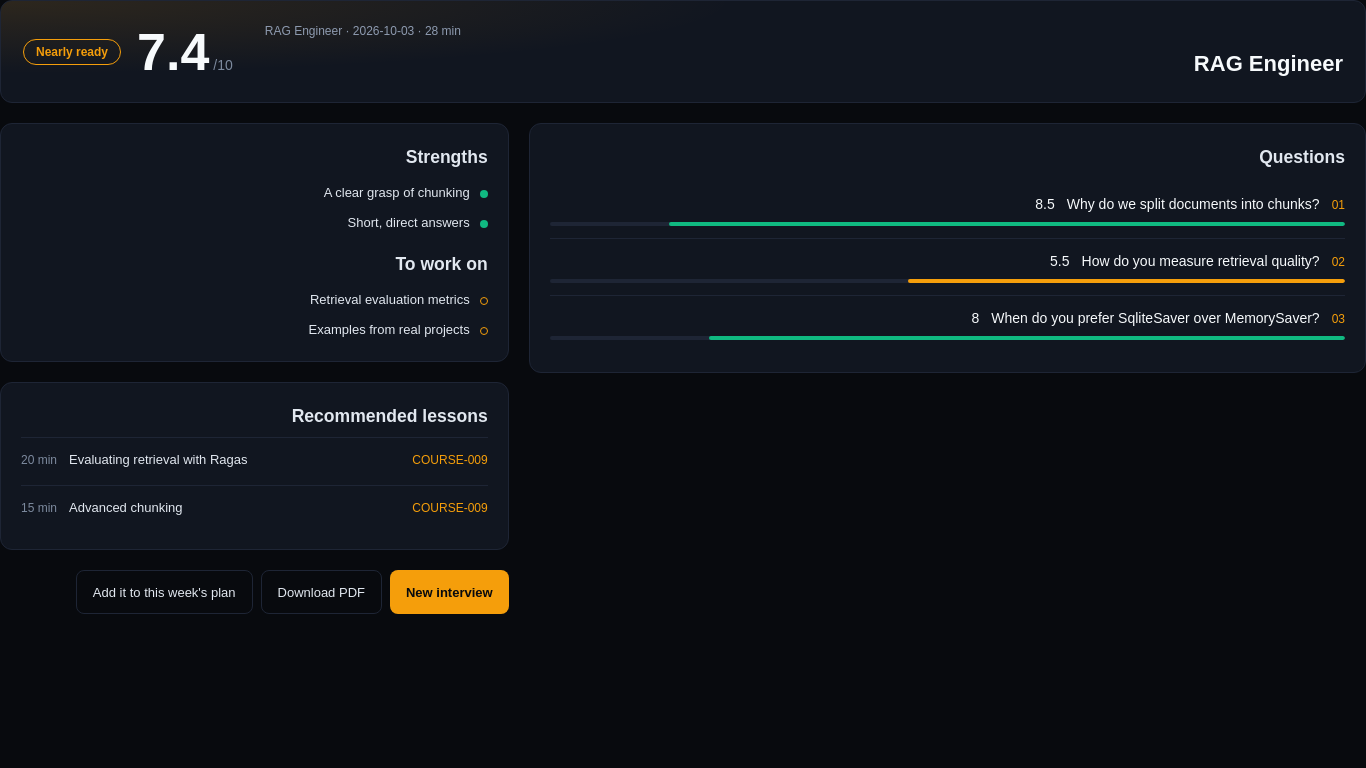
InterviewReport › adds the recommended lessons to this week’s plan
Expected: the text "7.4" is shown, [137,26,209,78]
Click the button "Add it to this week's plan" at (164, 592), box [76,570,253,614]
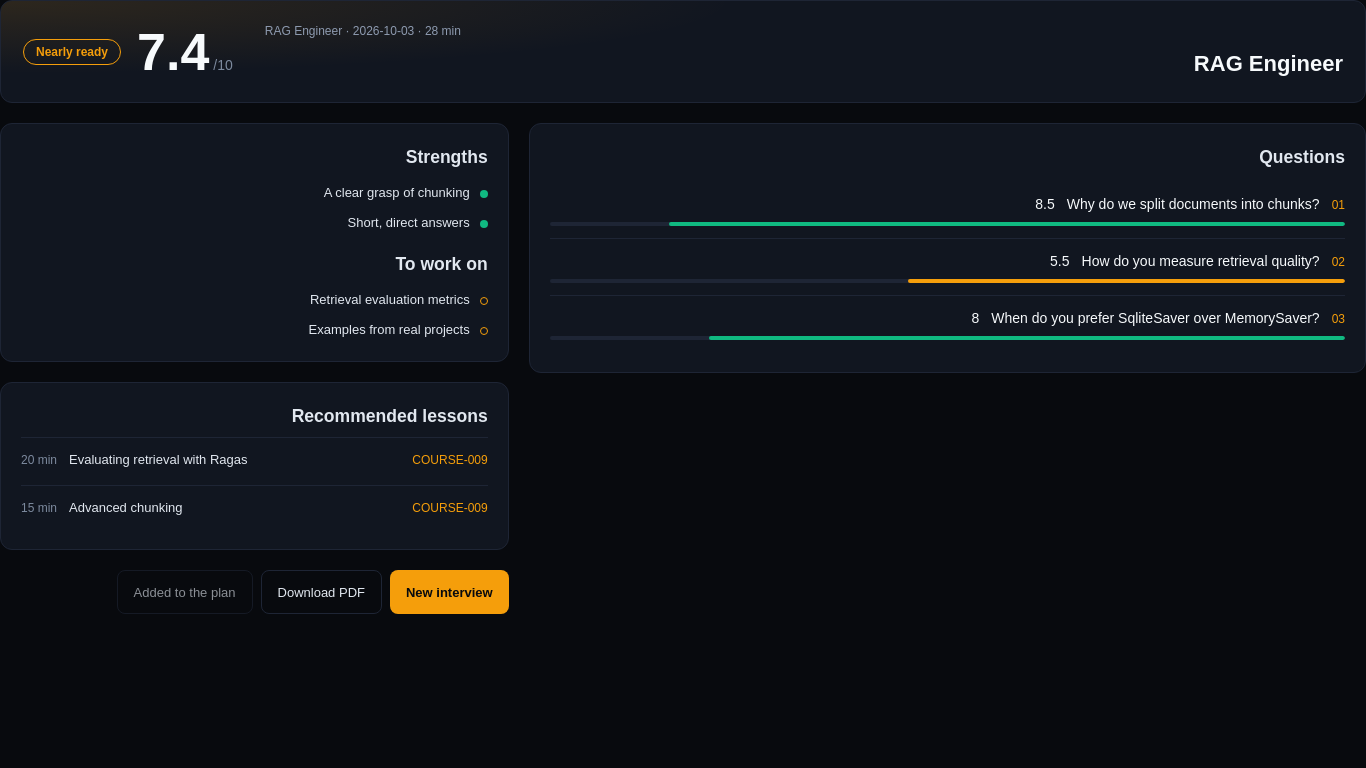
Now the button "Added to the plan" is disabled, box [117,570,252,614]
